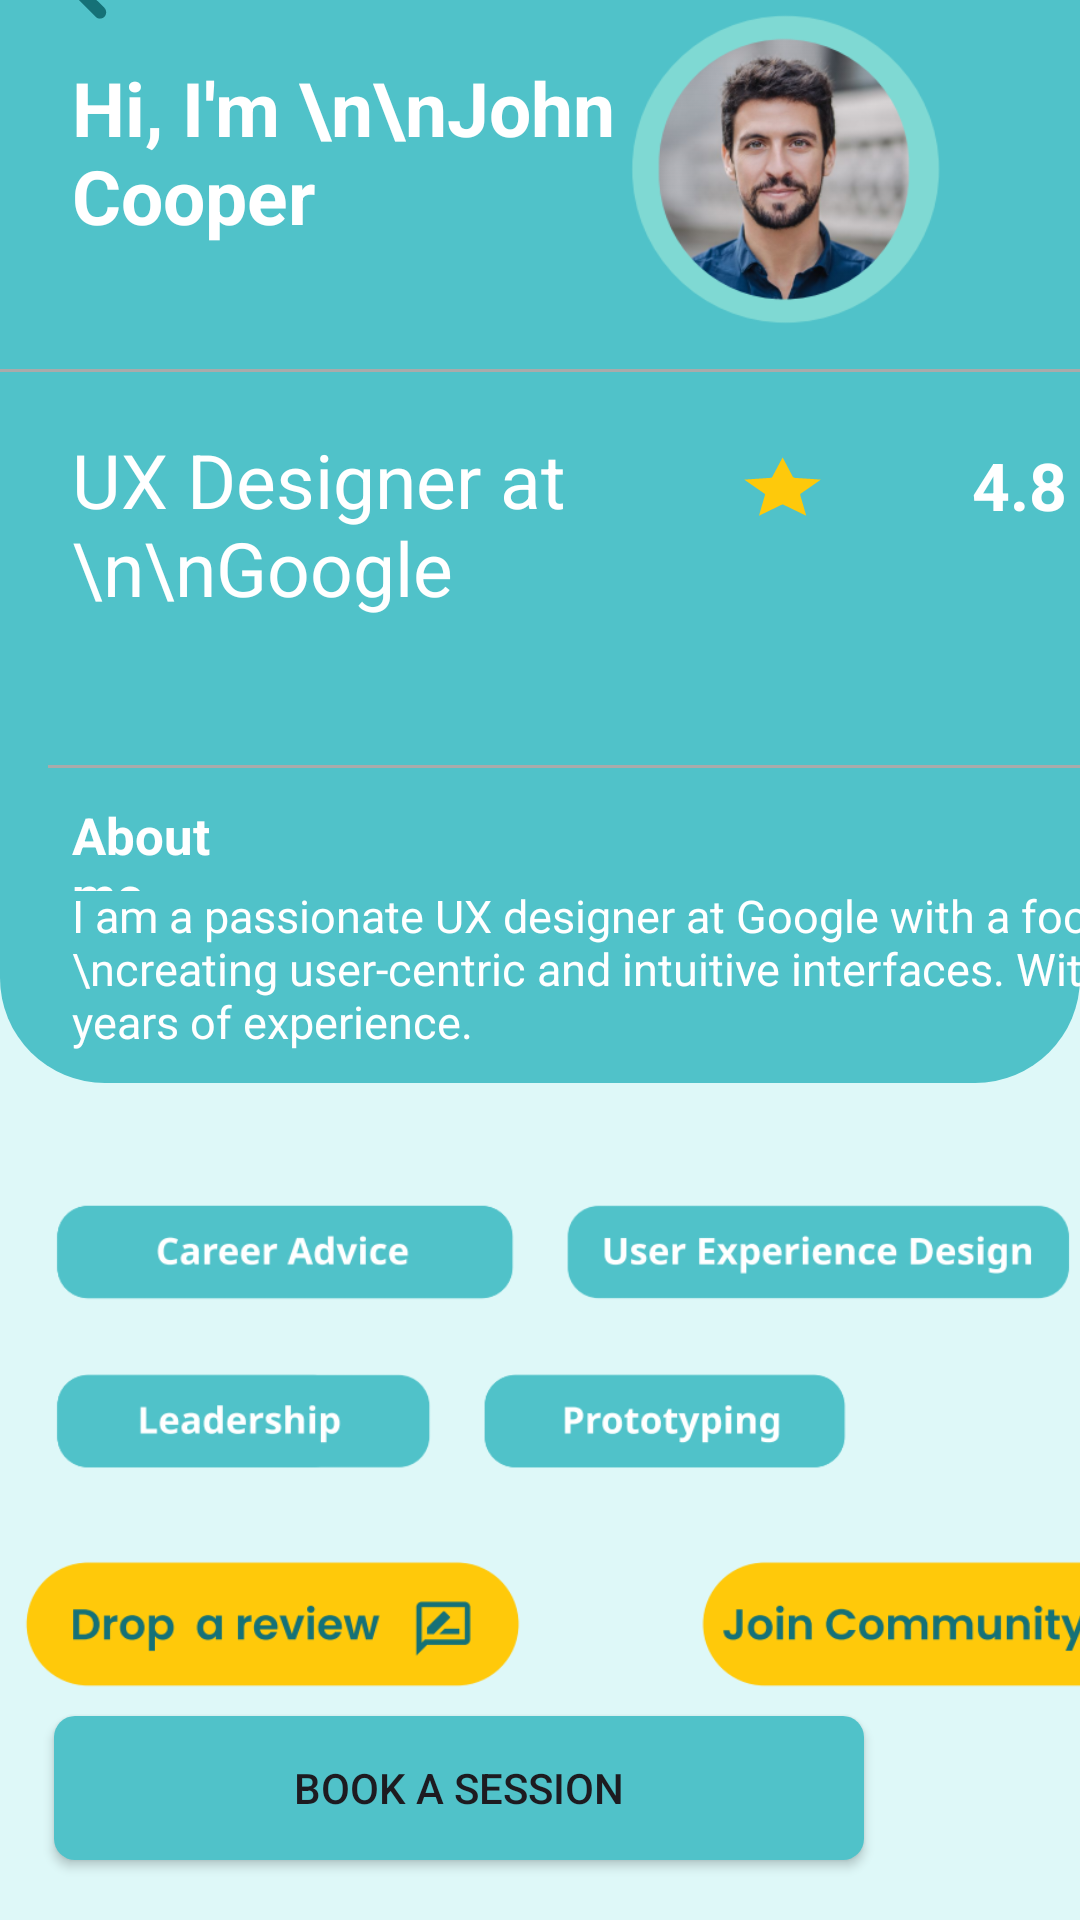

Named icons in this screenshot (1080px×1920px) and their centers, point (x, y):
star: point (782, 486)
